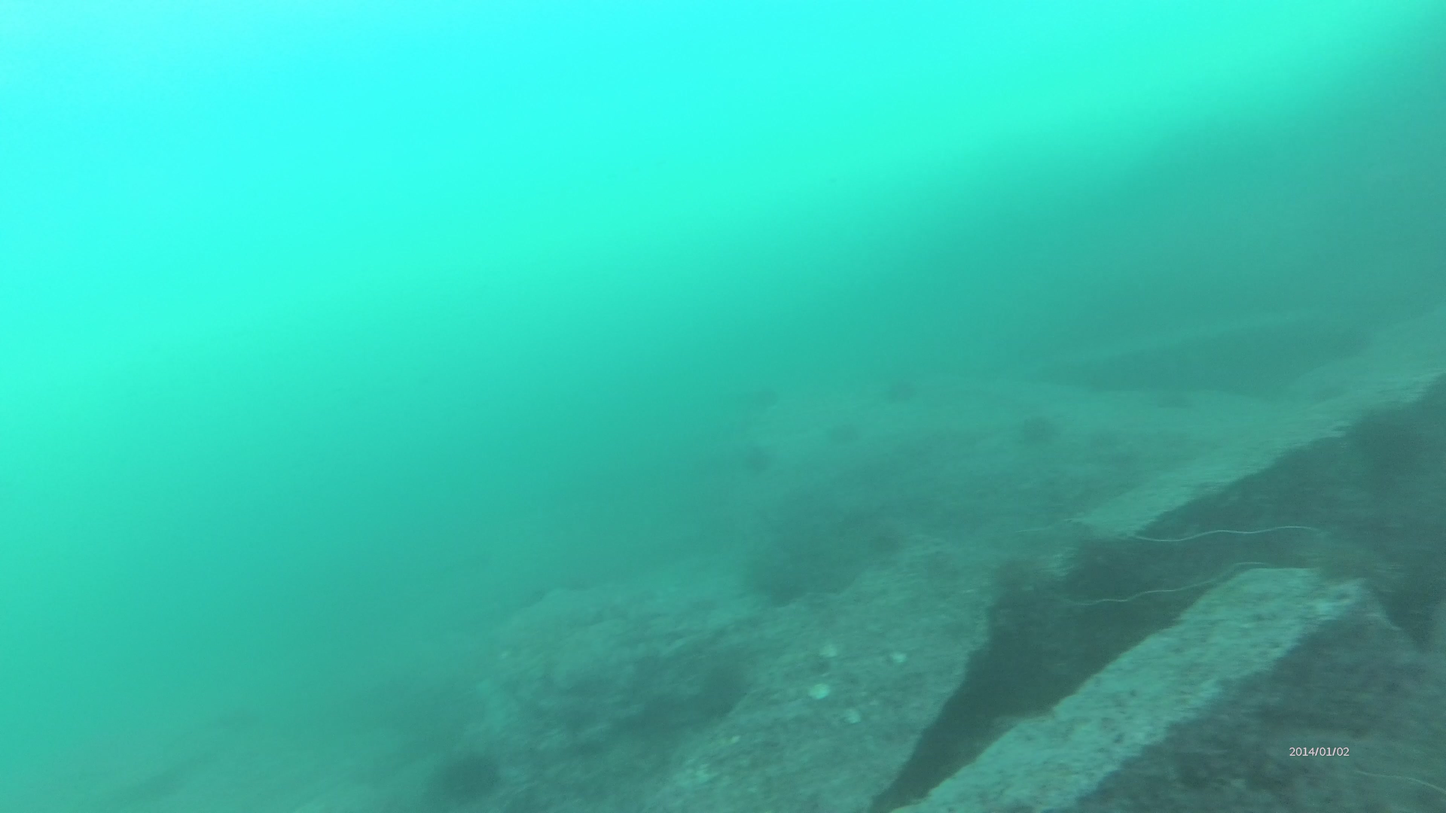starfish: (701, 665, 755, 717), (445, 752, 500, 800), (741, 442, 777, 477), (1019, 419, 1055, 448)
